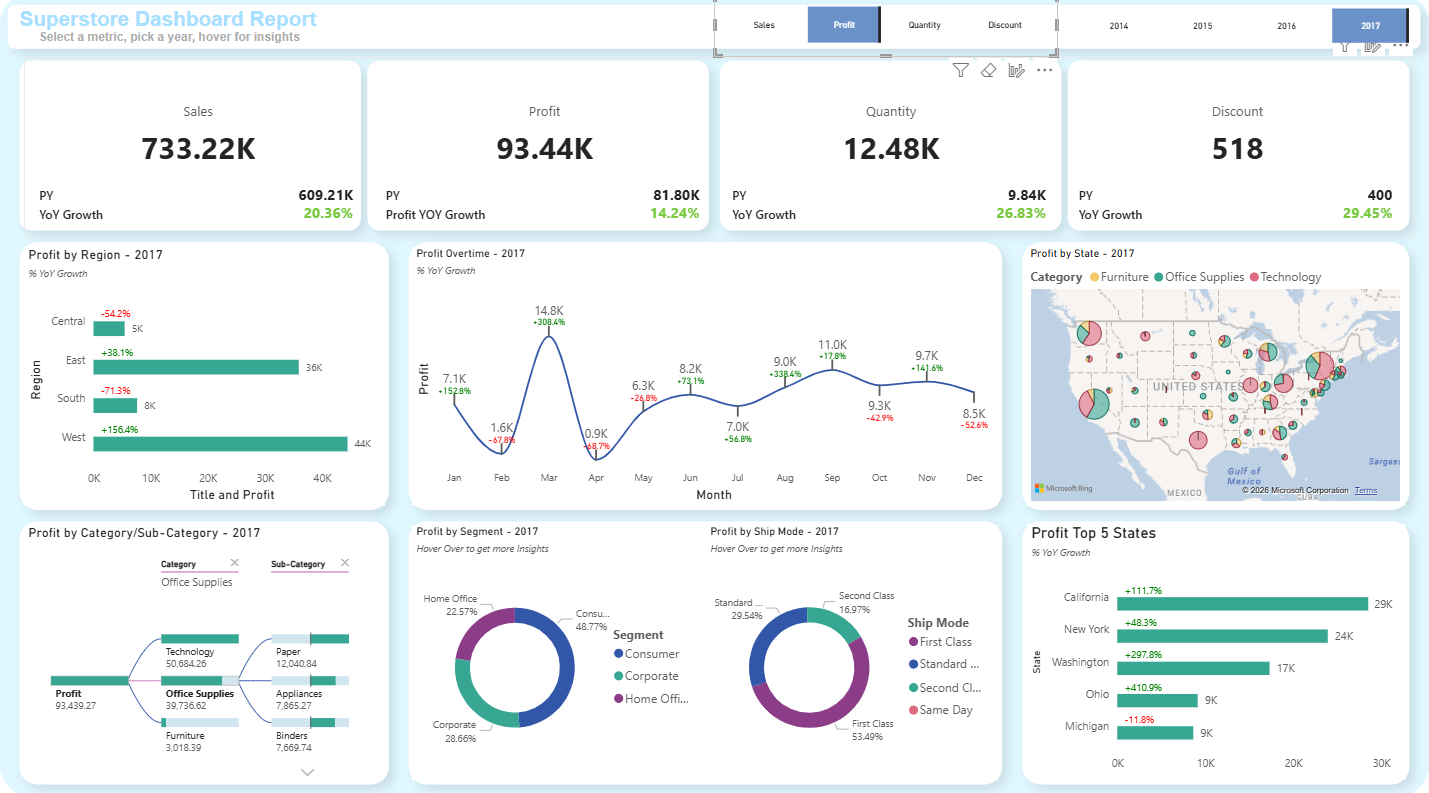

Layout of this report page (visuals, bound fields, positions):
{"tool":"powerbi","page":{"name":"Dashboard Report","canvas":[1600,900],"ordinal":0},"visuals":[{"type":"cardVisual","fields":{"Data":["Measure Table.Total Sales","Measure Table.Total Profit","Measure Table.Total Quantity Sold","Measure Table.Total Discount"]},"box":[28.9,71.1,1541,200],"z":0},{"type":"advancedSlicerVisual","fields":{"Values":["DimDate.Year"]},"box":[1195.2,12,374.7,48.2],"z":1000},{"type":"advancedSlicerVisual","fields":{"Values":["Select Measure.Select Measure"]},"box":[793.8,0,380.6,70.4],"z":2000},{"type":"clusteredBarChart","fields":{"Y":["Measure Table.Title","Measure Table.Total Quantity Sold"],"Category":["DimLocation.Region"]},"box":[28.4,281.8,400,287],"z":3000},{"type":"decompositionTreeVisual","fields":{"Analyze":["Measure Table.Total Quantity Sold"],"ExplainBy":["DimProducts.Category","DimProducts.Sub-Category"]},"box":[28.9,589.2,400,298.8],"z":4000},{"type":"lineChart","fields":{"Y":["Measure Table.Total Quantity Sold"],"Category":["DimDate.Month"]},"box":[459.2,281.8,648.9,287.2],"z":5000},{"type":"donutChart","fields":{"Y":["Measure Table.Total Quantity Sold"],"Category":["DimCustomers.Segment"]},"box":[459.2,589.3,322,283.1],"z":6000},{"type":"donutChart","fields":{"Y":["Measure Table.Total Quantity Sold"],"Category":["DimOrders.Ship Mode"]},"box":[784.3,589.3,323.8,283.1],"z":7000},{"type":"map","fields":{"Category":["DimLocation.State"],"Series":["DimProducts.Category"],"Size":["Measure Table.Total Quantity Sold"]},"box":[1139.8,281.9,419.3,286.7],"z":8000},{"type":"clusteredBarChart","fields":{"Category":["DimLocation.State"],"Y":["Measure Table.Title","Select Measure.SelectedMeasureValue"]},"box":[1141,589,420,283],"z":9000}]}

Visuals, with their boxes in screenshot pixels (x1, y1, x2, y2), scaled from the page's 1600x900 canvas onto the 1429x793 screenshot:
cardVisual - Measure Table.Total Sales x Measure Table.Total Profit: select_region(26, 63, 1402, 239)
advancedSlicerVisual - DimDate.Year: select_region(1067, 11, 1402, 53)
advancedSlicerVisual - Select Measure.Select Measure: select_region(709, 0, 1049, 62)
clusteredBarChart - Measure Table.Title x Measure Table.Total Quantity Sold: select_region(25, 248, 383, 501)
decompositionTreeVisual - Measure Table.Total Quantity Sold x DimProducts.Category: select_region(26, 519, 383, 782)
lineChart - Measure Table.Total Quantity Sold x DimDate.Month: select_region(410, 248, 990, 501)
donutChart - Measure Table.Total Quantity Sold x DimCustomers.Segment: select_region(410, 519, 698, 769)
donutChart - Measure Table.Total Quantity Sold x DimOrders.Ship Mode: select_region(700, 519, 990, 769)
map - DimLocation.State x DimProducts.Category: select_region(1018, 248, 1392, 501)
clusteredBarChart - DimLocation.State x Measure Table.Title: select_region(1019, 519, 1394, 768)
